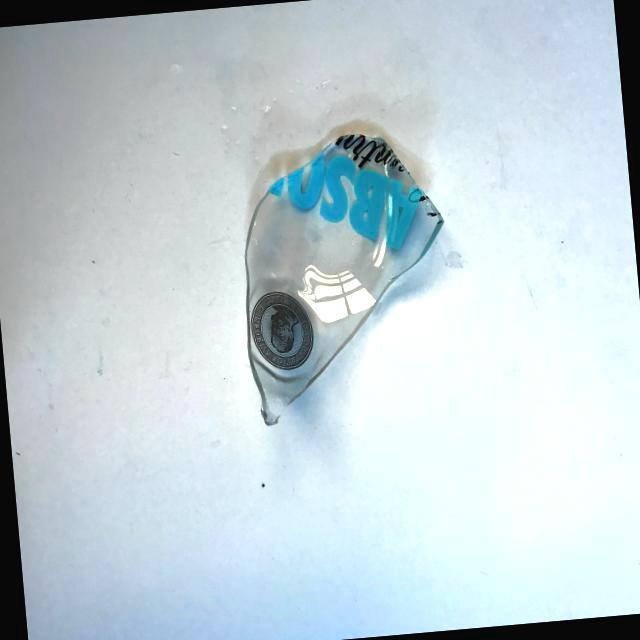glass: (195, 110, 478, 452)
